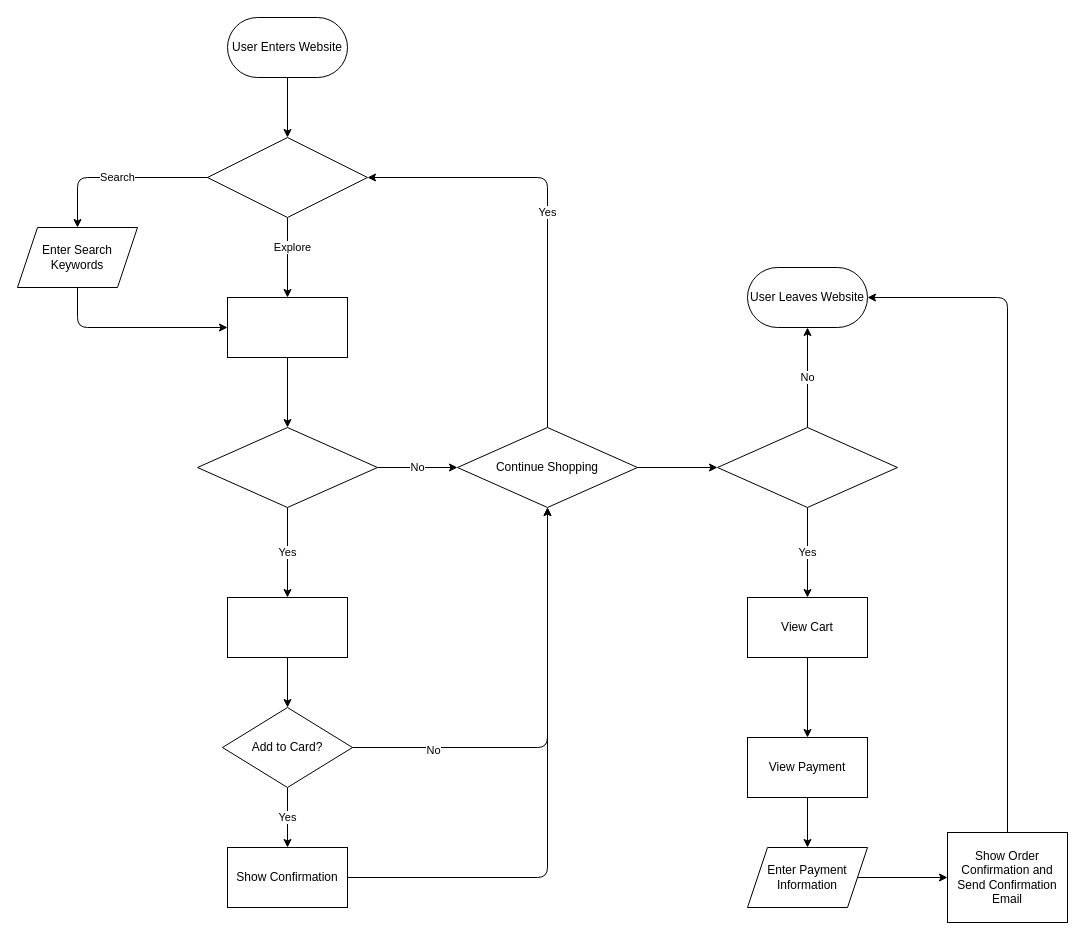
Image size: 1085x940. Some labels were removed from this diagram. The shapes that lost their labels are listed below. From the top down, each one's centre as x and y in pixels, then its label:
(x=287, y=177): Explore or Search
(x=287, y=327): Show Products Accordingly
(x=287, y=467): View a Specific Product
(x=807, y=467): Checkout?
(x=287, y=627): Show the Product
